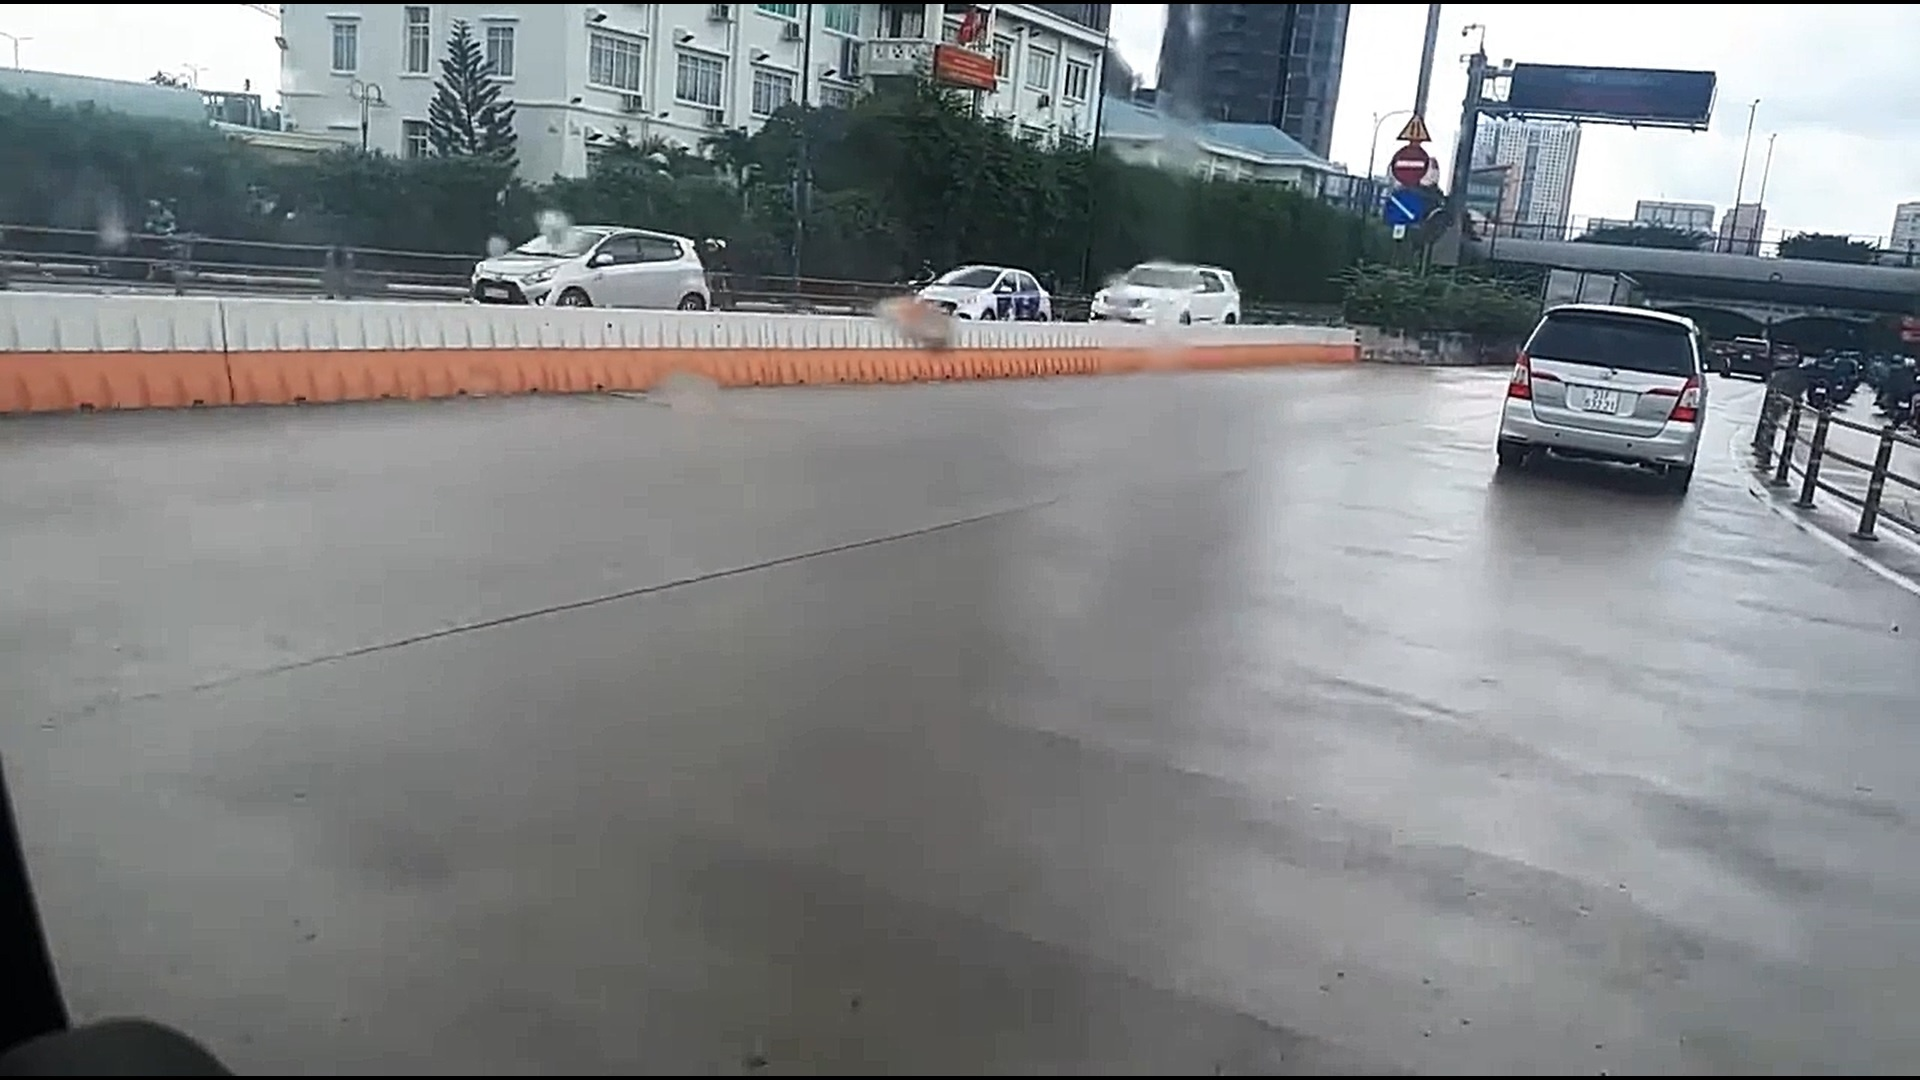Bien khac: (1396, 109, 1435, 145)
Cam di nguoc chieu: (1390, 144, 1429, 186)
Huong di phai re phai: (1385, 190, 1423, 222)
